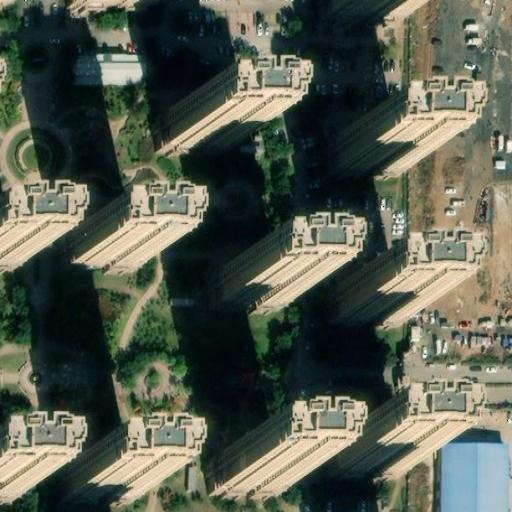building: (438, 444, 509, 512), (162, 108, 243, 151), (333, 128, 413, 171), (57, 234, 138, 276), (218, 448, 299, 490), (337, 430, 418, 472), (54, 468, 135, 510), (214, 265, 294, 307), (334, 281, 414, 323), (65, 55, 130, 87), (0, 232, 18, 274), (0, 466, 15, 508)
